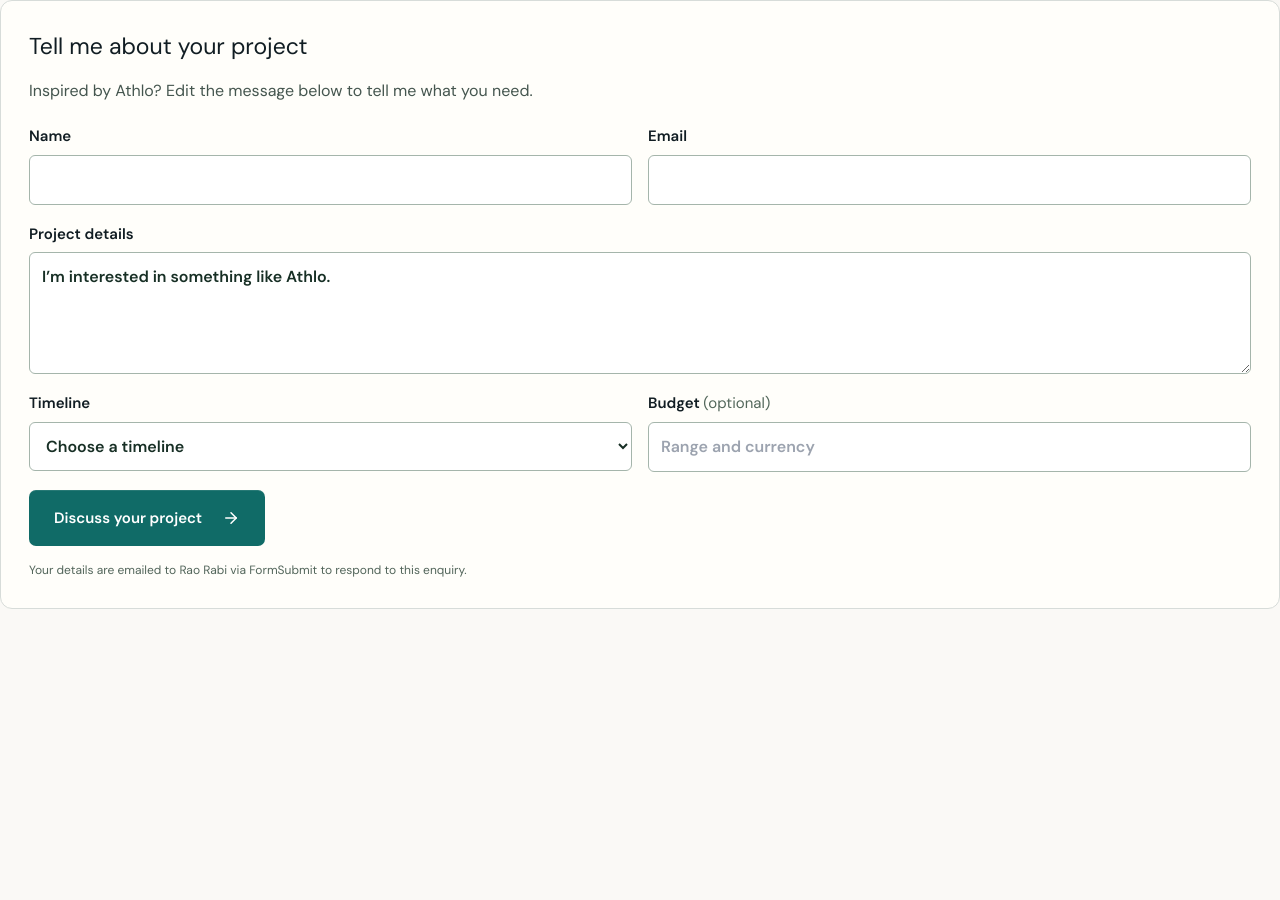
it: Project enquiry form › starts a case-study enquiry with editable project context and sends the edited message
The image size is (1280, 900).
Type "Example Founder" into the field labelled "Name" at point(330, 180), box [29,155,632,205]
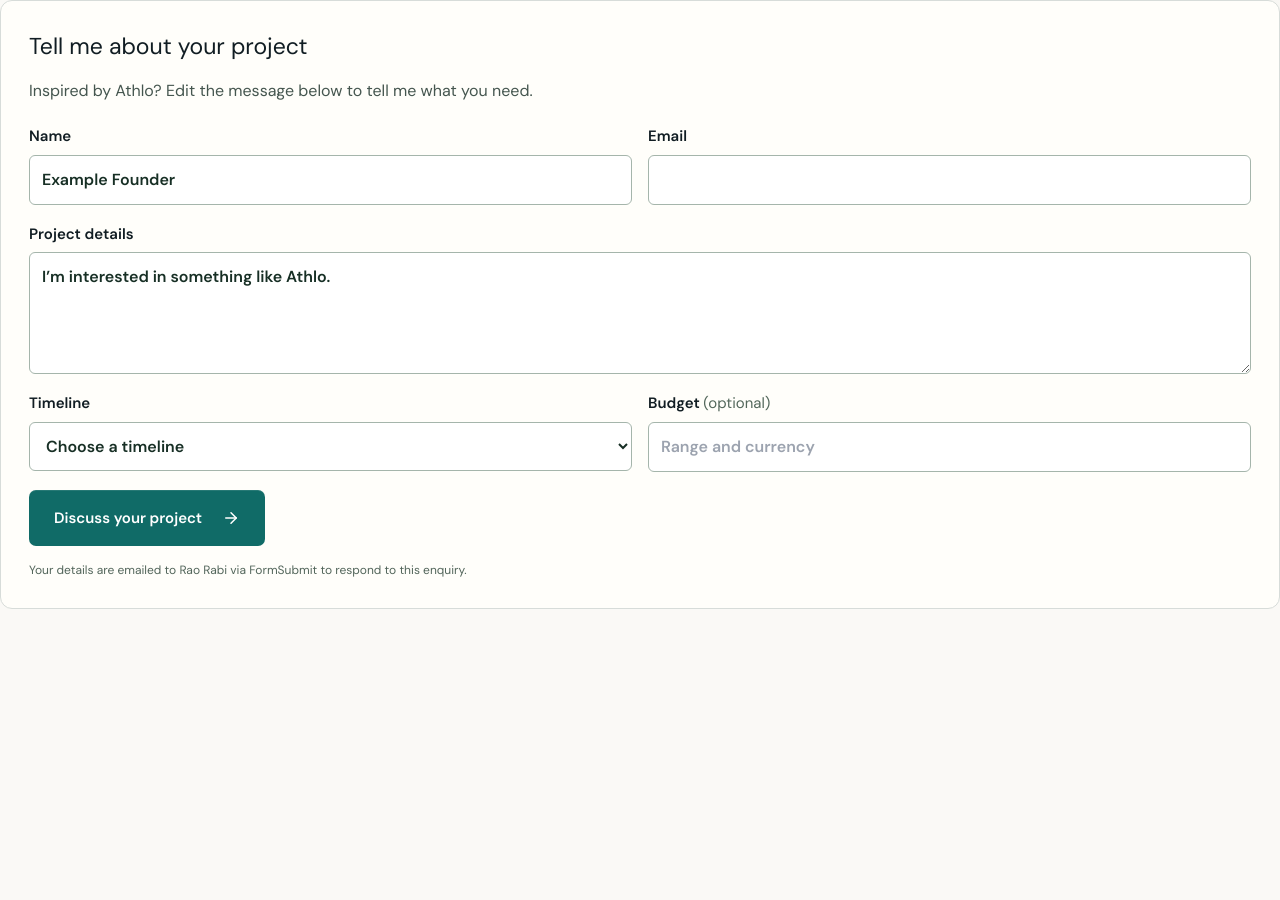
Type "founder@example.com" into the field labelled "Email" at point(950, 180), box [648,155,1251,205]
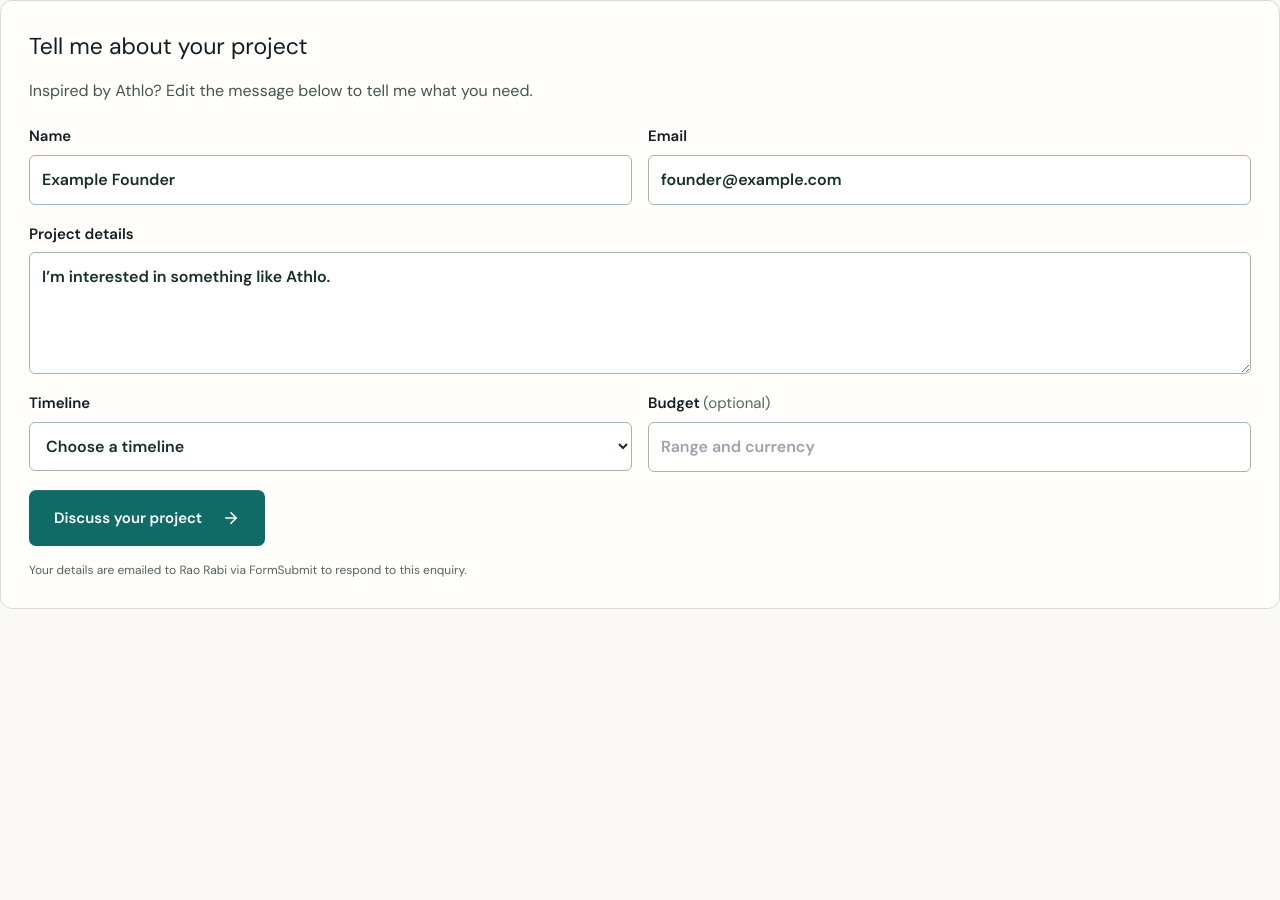
Replace the text in the text box labelled "Project details" with "We need an internal scheduling tool for our team." at point(640, 313), box [29,252,1251,374]
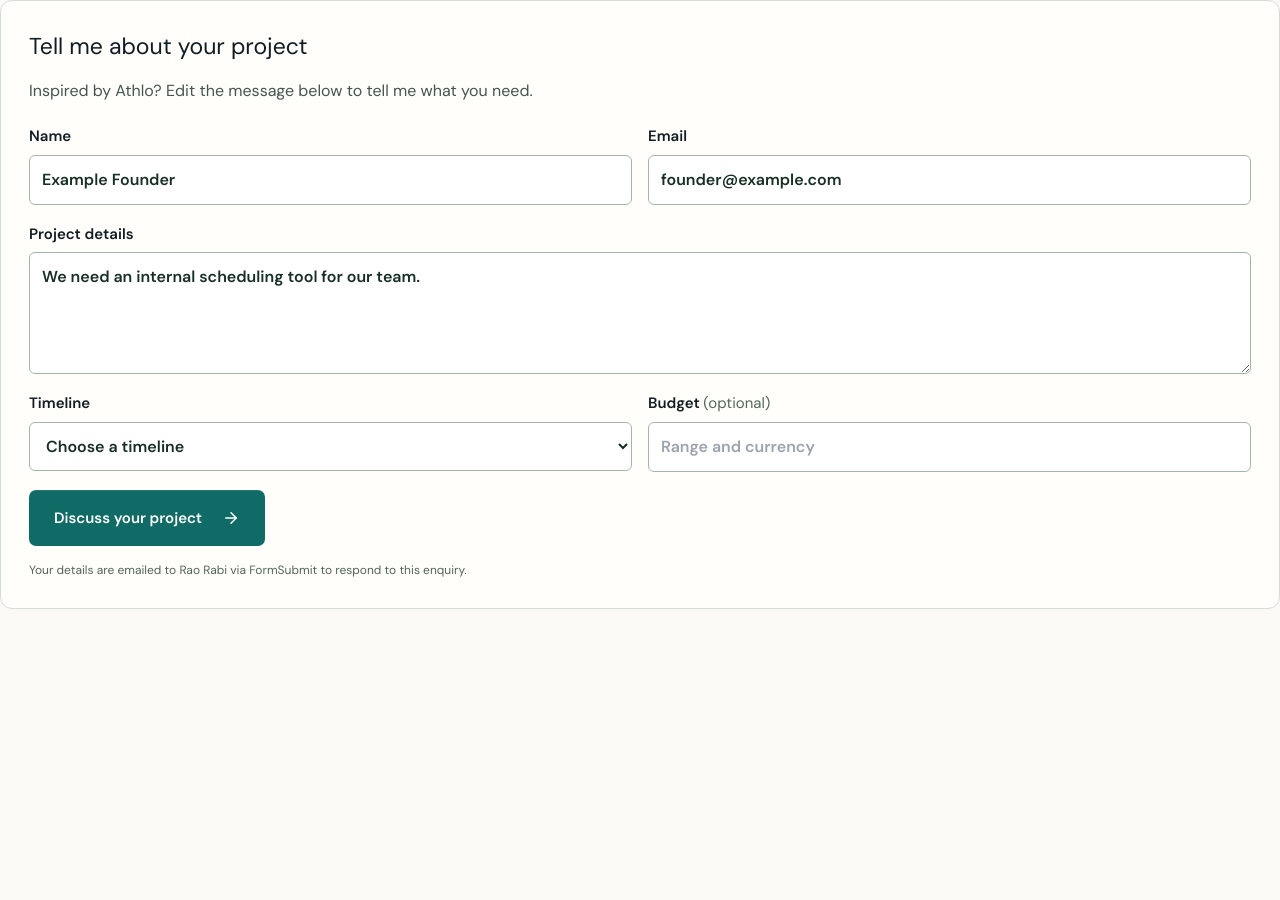
Select "Within 1–3 months" in the dropdown labelled "Timeline" at point(330, 446), box [29,422,632,471]
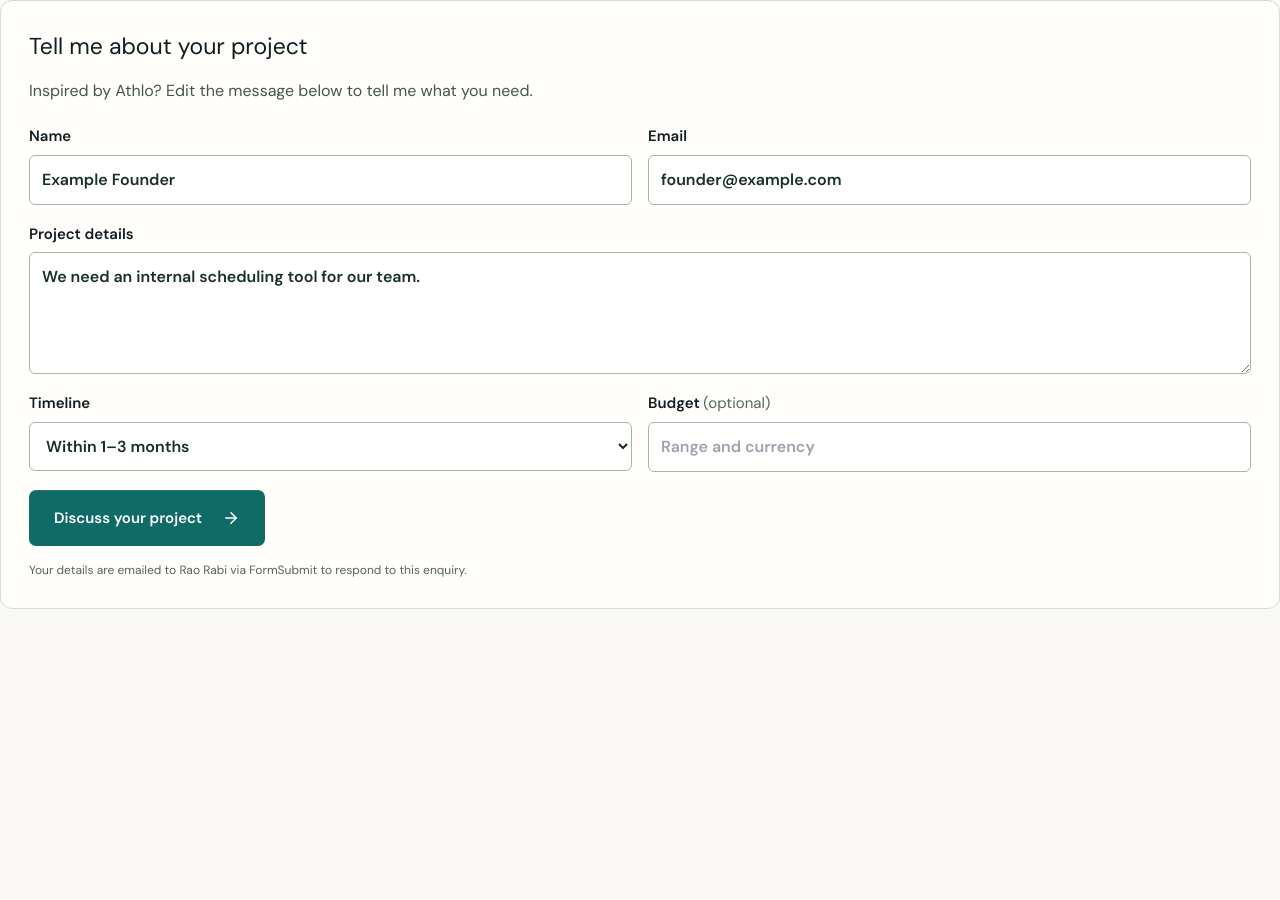
Replace the text in the text box labelled "Project details" with "I’m interested in something like Athlo, for a local sports community." at point(640, 313), box [29,252,1251,374]
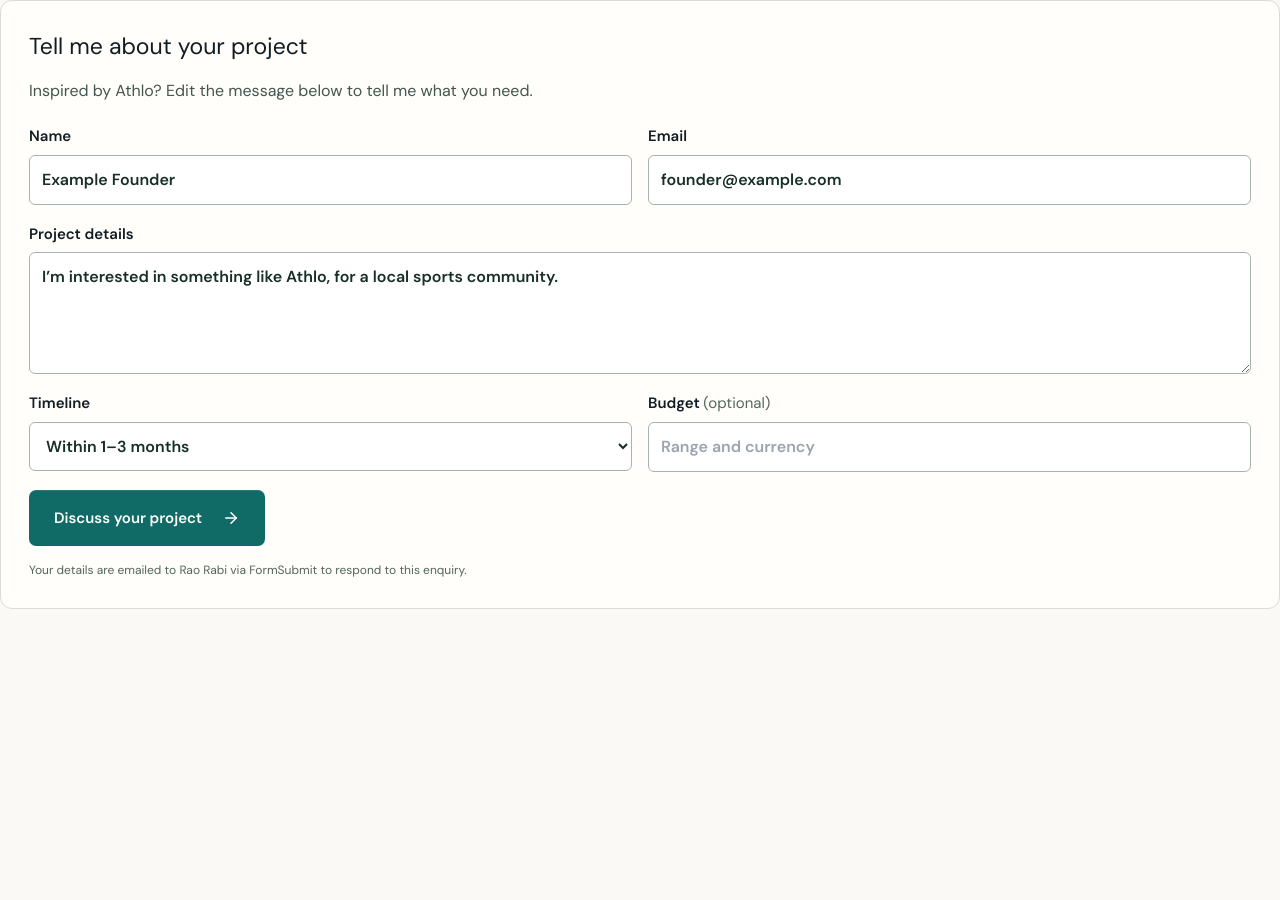
Click the button "Discuss your project" at point(147, 518), box [29,490,265,546]
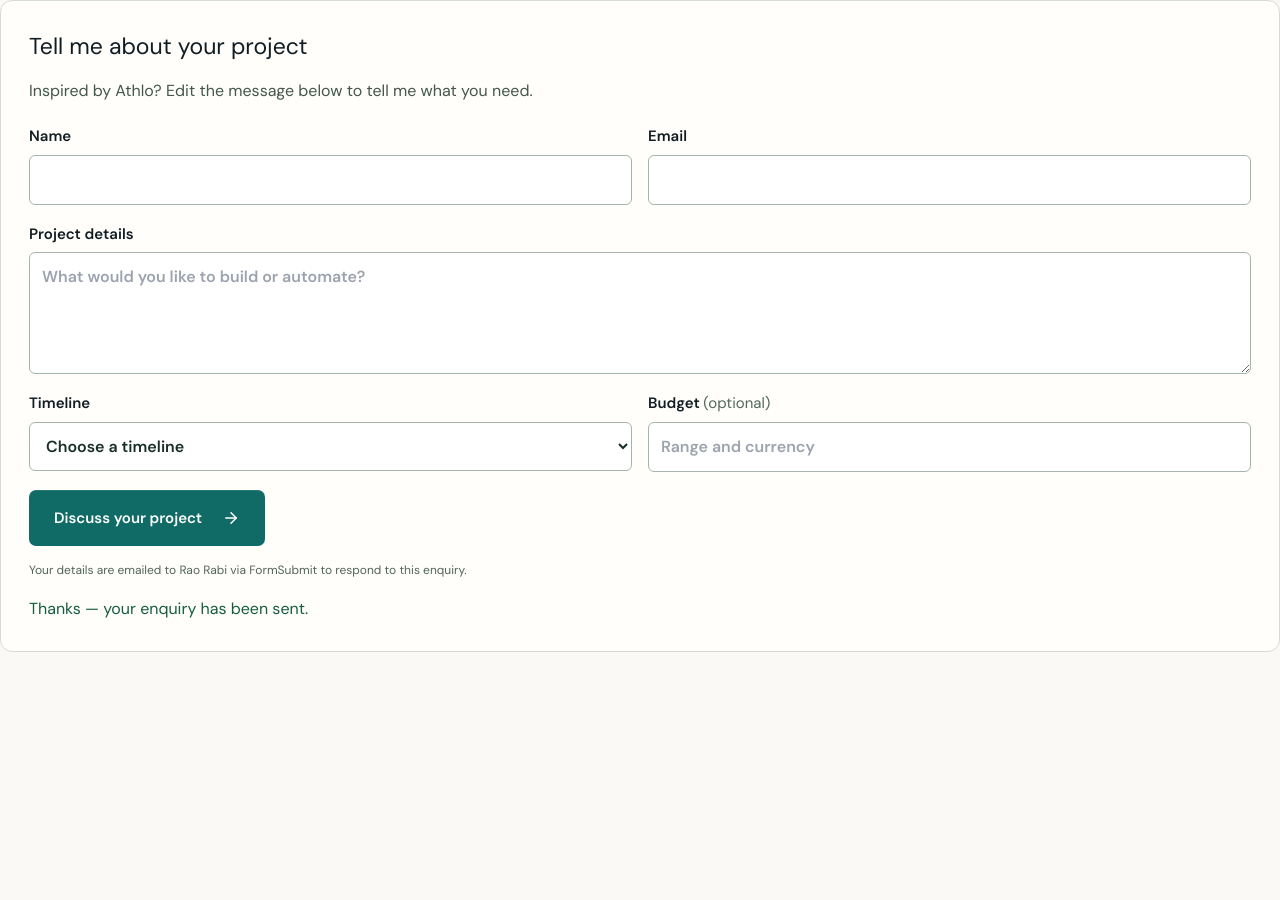
expect the message shows "sent": met, box [29,598,308,619]
